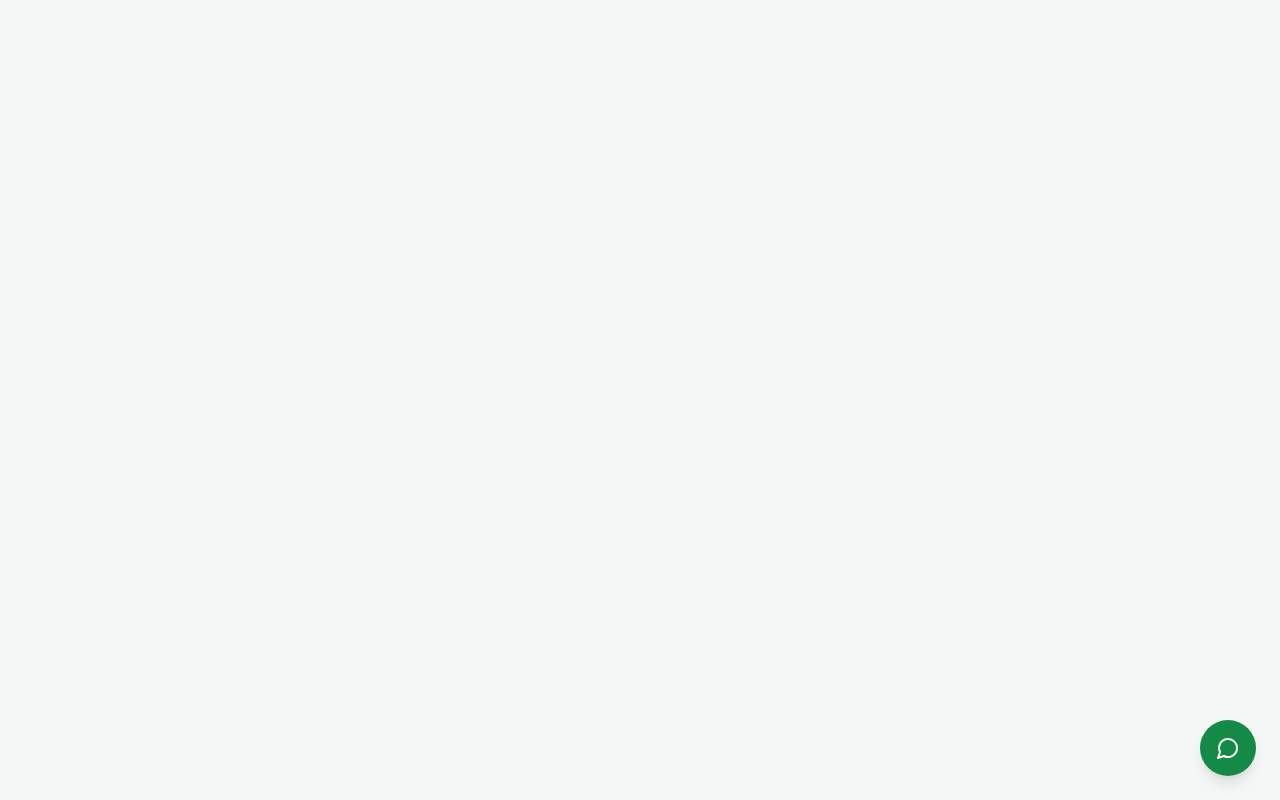
it: Recipe chat › Minimize goes back to the bubble
Click the button named "Open recipe chat". click: [1228, 748]
box: [1200,720,1256,776]
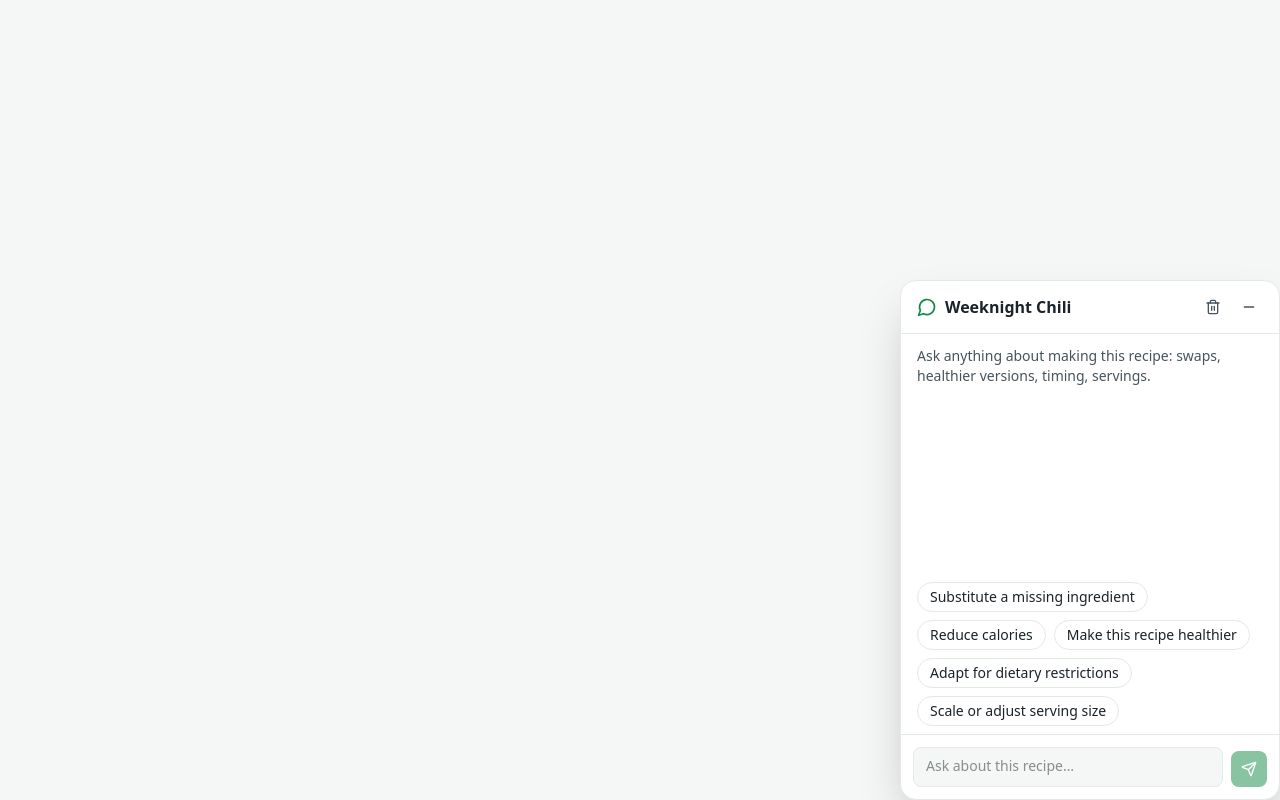
Click the button named "Minimize". click: [1249, 307]
box: [1235,293,1263,321]
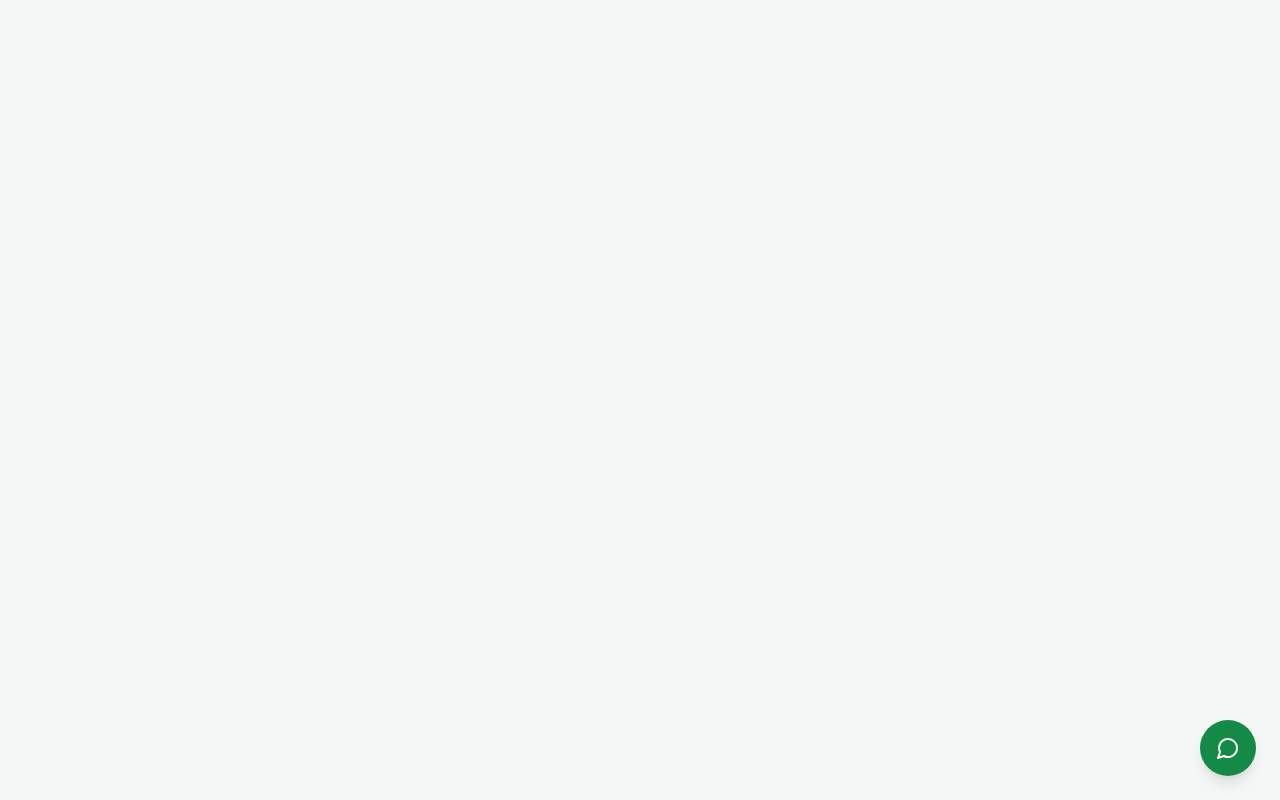
Now the button named "Open recipe chat" is shown, box [1200,720,1256,776]
